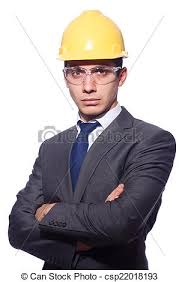Person_wearing_helmet: (53, 1, 129, 88)
